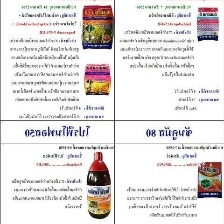insecticide: (82, 150, 113, 221), (79, 3, 116, 54), (194, 160, 223, 200), (83, 58, 112, 97), (195, 4, 222, 43)
